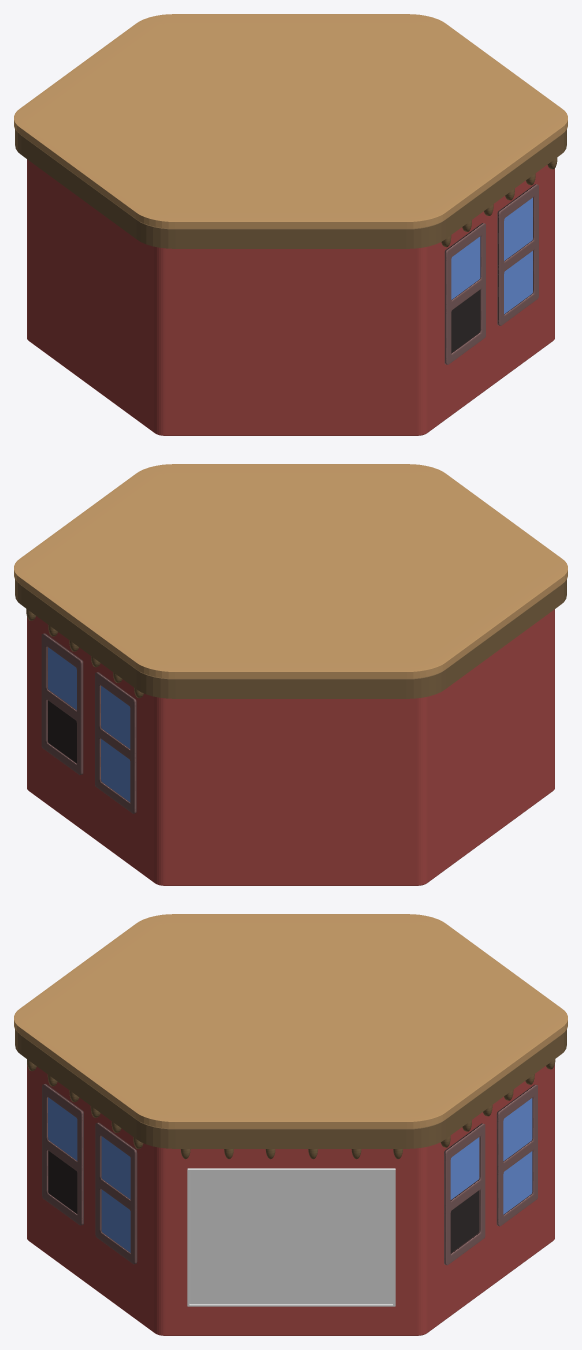
Rendered from building.fbx.
The picture shows the model from 3 angles, top to bottom: view 1: azimuth 30°, elevation 25°; view 2: azimuth 150°, elevation 25°; view 3: azimuth 270°, elevation 25°; orthographic projection.
Parts seen in each view (by area): view 1: 柱体.002, 柱体, 柱体.001, 立方体.006, 立方体.005, 立方体.004, 立方体.008, 立方体.016; view 2: 柱体.002, 柱体, 柱体.001, 立方体.037, 立方体.018, 立方体.017, 立方体.039, 立方体.038; view 3: 柱体.002, 柱体, 立方体.013, 柱体.001, 立方体.004, 立方体.037, 立方体.005, 立方体.018, 立方体.017, 立方体.006, 立方体.008, 立方体.016 (+2 smaller).
Boxes of the visible parts, box(x1,y1,x2,y2) form: 柱体.002: box(14, 14, 567, 228); 柱体: box(27, 159, 554, 435); 柱体.001: box(15, 129, 566, 248); 立方体.006: box(444, 223, 485, 364); 立方体.005: box(504, 197, 532, 314); 立方体.004: box(497, 184, 538, 325); 立方体.008: box(451, 236, 480, 299); 立方体.016: box(451, 290, 480, 352); 柱体.002: box(14, 464, 567, 678); 柱体: box(27, 609, 554, 885); 柱体.001: box(15, 579, 566, 698); 立方体.037: box(41, 633, 83, 774); 立方体.018: box(101, 686, 130, 801); 立方体.017: box(95, 672, 136, 813); 立方体.039: box(48, 700, 76, 763); 立方体.038: box(48, 647, 76, 709); 柱体.002: box(14, 914, 567, 1128); 柱体: box(27, 1064, 554, 1335); 立方体.013: box(187, 1168, 395, 1306); 柱体.001: box(15, 1029, 566, 1148); 立方体.004: box(95, 1122, 137, 1264); 立方体.037: box(444, 1123, 485, 1265); 立方体.005: box(101, 1136, 130, 1252); 立方体.018: box(503, 1098, 532, 1214); 立方体.017: box(496, 1084, 537, 1226); 立方体.006: box(42, 1083, 83, 1225); 立方体.008: box(48, 1097, 77, 1160); 立方体.016: box(48, 1151, 77, 1213).
Bounding box in the file's own units: 227 × 201 × 100.
